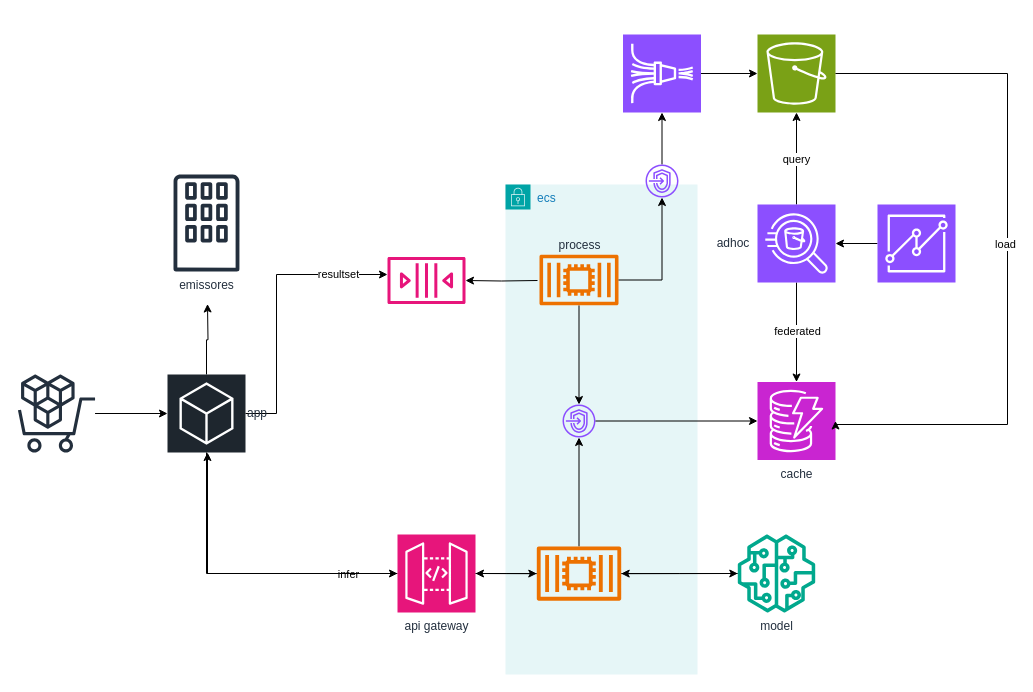
This 1033x692 diagram has some shape labels left out. Here are the shapes that lost their labels. From the top down, the centre of each, then its label:
point (796, 73): history
point (916, 243): quicksight
point (426, 280): queue
point (578, 573): invoke
